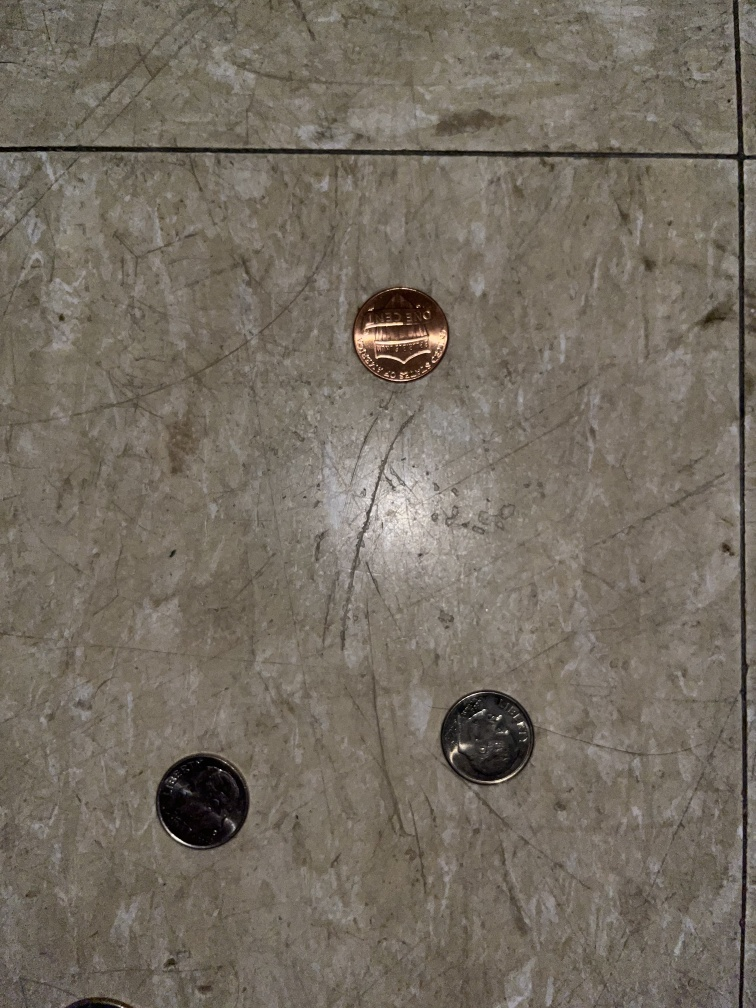dime: (154, 750, 253, 852), (438, 688, 539, 787)
penny: (350, 285, 452, 386)
